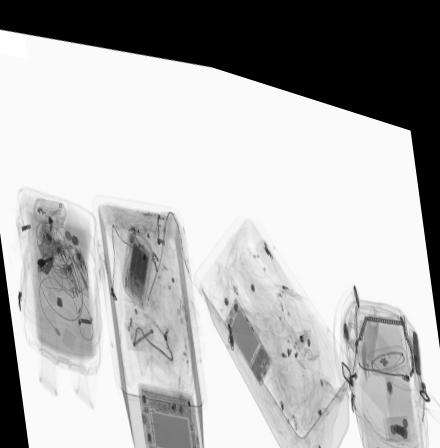Knife: (411, 302, 420, 351)
